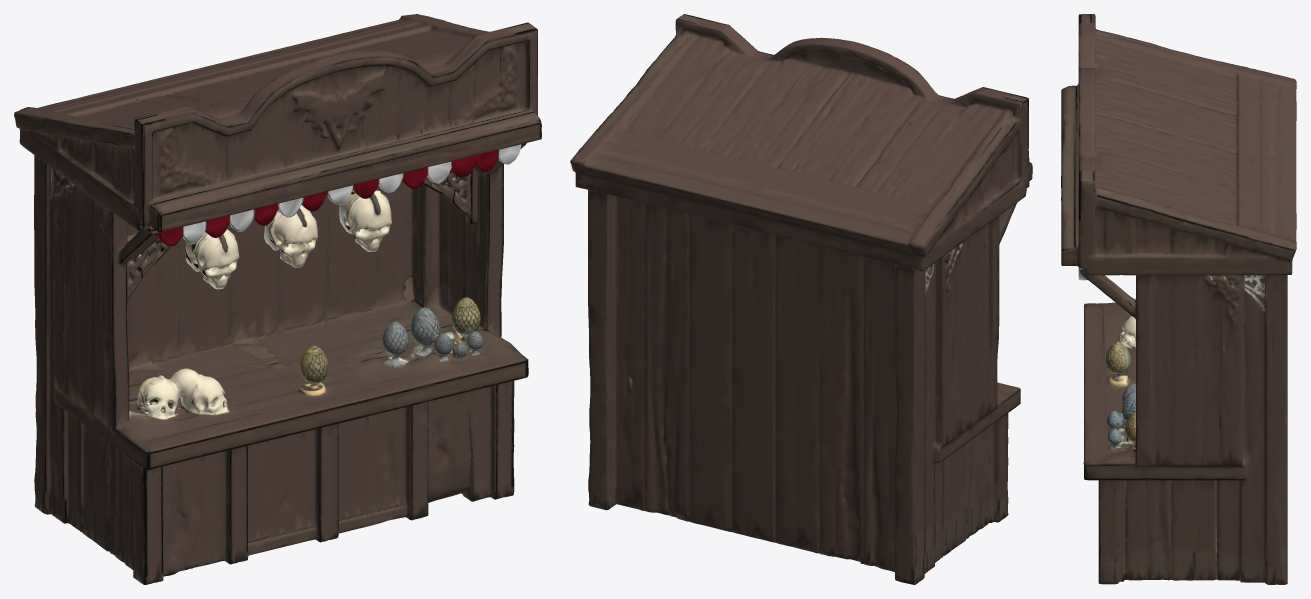
The picture shows the model from 3 angles, left to right: view 1: azimuth 30°, elevation 25°; view 2: azimuth 150°, elevation 25°; view 3: azimuth 270°, elevation 25°; orthographic projection. The views are drawn at different scales.
Parts seen in each view (by area): view 1: Mesh_0.001; view 2: Mesh_0.001; view 3: Mesh_0.001.
Part boxes in pixels (<box>): Mesh_0.001: <box>14,14,541,584</box>; Mesh_0.001: <box>570,14,1032,584</box>; Mesh_0.001: <box>1061,14,1296,584</box>.
Bounding box in the file's own units: 869 × 1000 × 506.
Materials: 1 (1 with a texture image).
